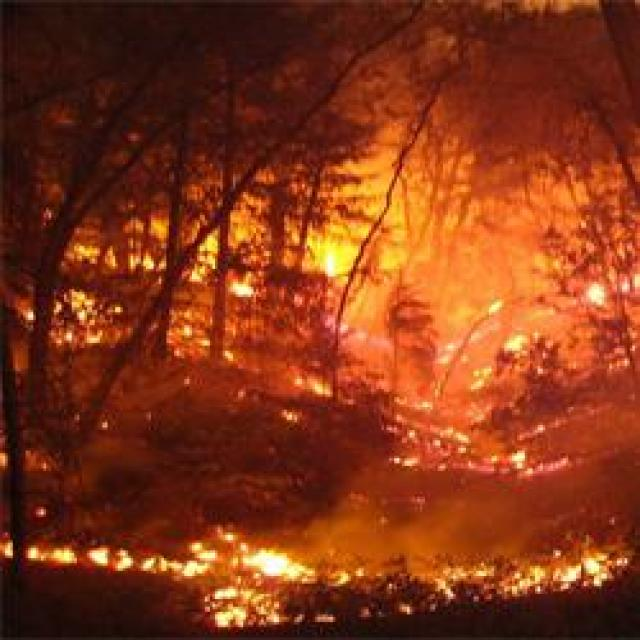fire: (182, 526, 308, 592), (0, 537, 185, 578), (208, 579, 294, 640)
